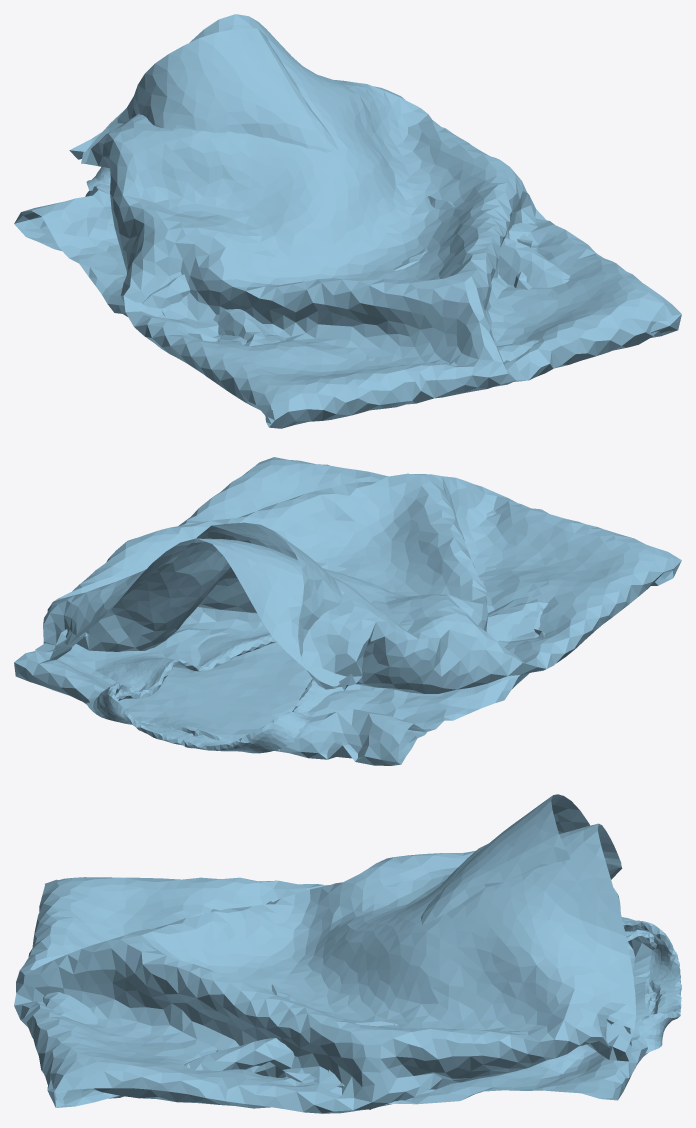
Rendered from frame_20.glb.
3 views of the same model, one above another, from view 1: azimuth 30°, elevation 25°; view 2: azimuth 150°, elevation 25°; view 3: azimuth 270°, elevation 25° (orthographic). The views are drawn at different scales.
Visible parts, largest first — view 1: frame_20.obj; view 2: frame_20.obj; view 3: frame_20.obj.
Boxes of the visible parts, x1,y1,x2,y2 form: frame_20.obj: (14,14,681,428); frame_20.obj: (14,457,681,765); frame_20.obj: (14,794,681,1113).
Bounding box in the file's own units: 0.6377 × 0.2727 × 0.8292.
